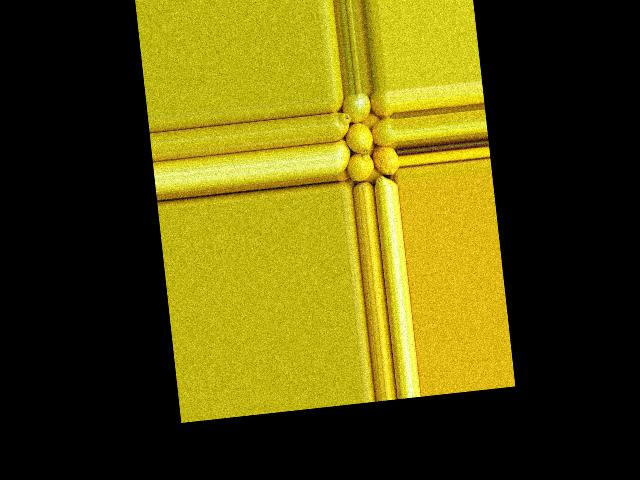lemon: (329, 93, 345, 111)
